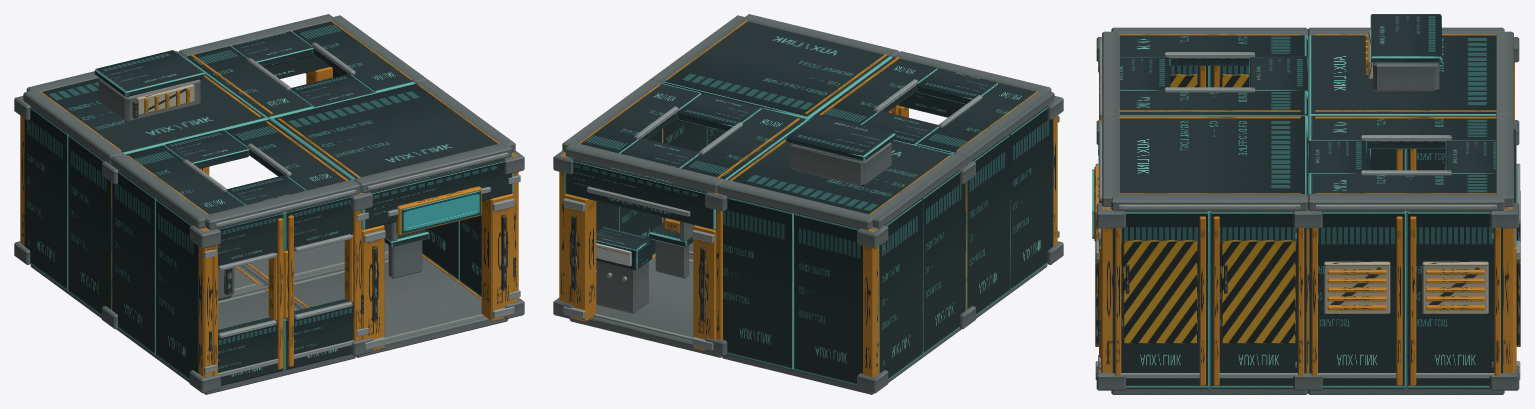
The model's file is CargoDepot_Intact_LOD1.obj.
3 views of the same model, side by side, from view 1: azimuth 30°, elevation 25°; view 2: azimuth 150°, elevation 25°; view 3: azimuth 270°, elevation 25° (orthographic). The views are drawn at different scales.
Visible parts, largest first — view 1: 005_roof_4m.001, 007_roof_skylight_4m.001, 019_doorframe_4m.001, 001_roof_skylight_4m.001, 017_wall_window_2m.001, 016_wall_window_2m.001, 004_floor_4m.001, 003_roof_4m.001, 025_wall_vent_2m.001, 022_wall_solid_2m.001, 024_wall_vent_2m.001, 021_wall_solid_2m.001 (+23 smaller); view 2: 005_roof_4m.001, 030_doorframe_4m.001, 028_wall_solid_2m.005, 027_wall_solid_2m.001, 007_roof_skylight_4m.001, 001_roof_skylight_4m.001, 021_wall_solid_2m.001, 003_roof_4m.001, 024_wall_vent_2m.001, 022_wall_solid_2m.001, 025_wall_vent_2m.001, 039_hvac_unit.001 (+21 smaller); view 3: 035_wall_vent_2m.001, 033_wall_solid_2m.001, 032_wall_solid_2m.001, 036_wall_vent_2m.001, 005_roof_4m.001, 001_roof_skylight_4m.001, 007_roof_skylight_4m.001, 003_roof_4m.001, 039_hvac_unit.001, 034_beam_4m.001, 037_beam_4m.001, 013_column_4m.005 (+17 smaller).
Part boxes in pixels (box(x1,y1,x2,y2)): 005_roof_4m.001: box(270, 83, 499, 180); 007_roof_skylight_4m.001: box(185, 20, 414, 119); 019_doorframe_4m.001: box(361, 158, 514, 350); 001_roof_skylight_4m.001: box(125, 119, 350, 214); 017_wall_window_2m.001: box(283, 196, 359, 370); 016_wall_window_2m.001: box(212, 212, 283, 385); 004_floor_4m.001: box(294, 254, 508, 357); 003_roof_4m.001: box(39, 57, 268, 153); 025_wall_vent_2m.001: box(24, 106, 68, 290); 022_wall_solid_2m.001: box(112, 170, 156, 355); 024_wall_vent_2m.001: box(68, 134, 111, 315); 021_wall_solid_2m.001: box(156, 199, 198, 379); 005_roof_4m.001: box(663, 20, 892, 119); 030_doorframe_4m.001: box(563, 157, 716, 350); 028_wall_solid_2m.005: box(723, 196, 794, 370); 027_wall_solid_2m.001: box(794, 212, 862, 385); 007_roof_skylight_4m.001: box(578, 83, 807, 180); 001_roof_skylight_4m.001: box(809, 57, 1038, 153); 021_wall_solid_2m.001: box(1009, 106, 1053, 290); 003_roof_4m.001: box(727, 119, 952, 214); 024_wall_vent_2m.001: box(921, 170, 965, 355); 022_wall_solid_2m.001: box(966, 134, 1009, 315); 025_wall_vent_2m.001: box(879, 199, 921, 379); 039_hvac_unit.001: box(785, 114, 895, 186); 035_wall_vent_2m.001: box(1309, 211, 1406, 388); 033_wall_solid_2m.001: box(1209, 211, 1306, 388); 032_wall_solid_2m.001: box(1112, 211, 1209, 388); 036_wall_vent_2m.001: box(1406, 211, 1503, 388); 005_roof_4m.001: box(1119, 115, 1307, 194); 001_roof_skylight_4m.001: box(1119, 34, 1307, 116); 007_roof_skylight_4m.001: box(1308, 115, 1496, 194); 003_roof_4m.001: box(1308, 34, 1496, 116); 039_hvac_unit.001: box(1365, 14, 1441, 92); 034_beam_4m.001: box(1111, 194, 1307, 210); 037_beam_4m.001: box(1308, 194, 1504, 210); 013_column_4m.005: box(1096, 203, 1125, 390).
Size of the model in its own units: 8.62 by 5.3 by 8.72.
Materials: 1 (1 with a texture image).
